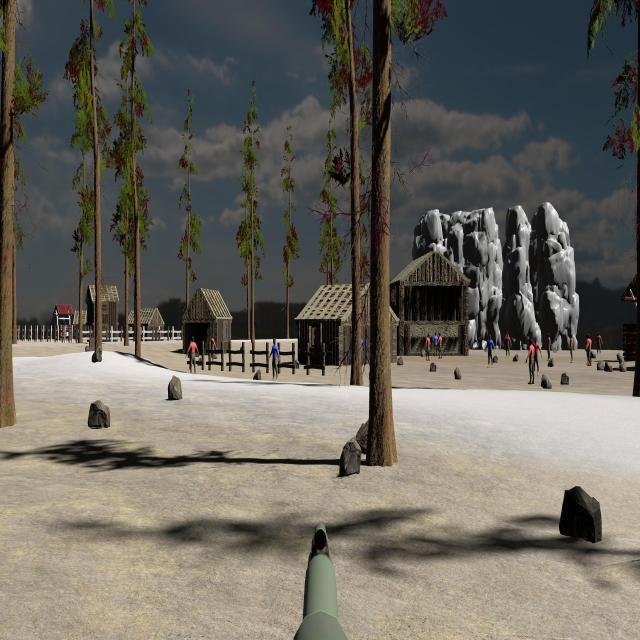Human: (526, 337, 537, 384), (187, 336, 200, 375), (270, 337, 280, 381), (531, 337, 541, 377), (484, 334, 495, 369)
